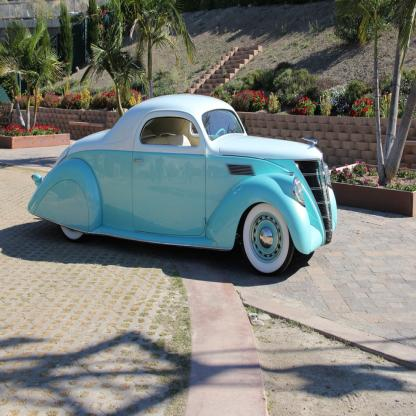Car: (28, 96, 339, 278)
